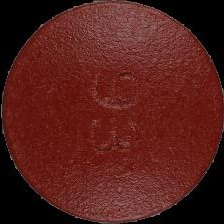68151-1487: (0, 0, 224, 224)
